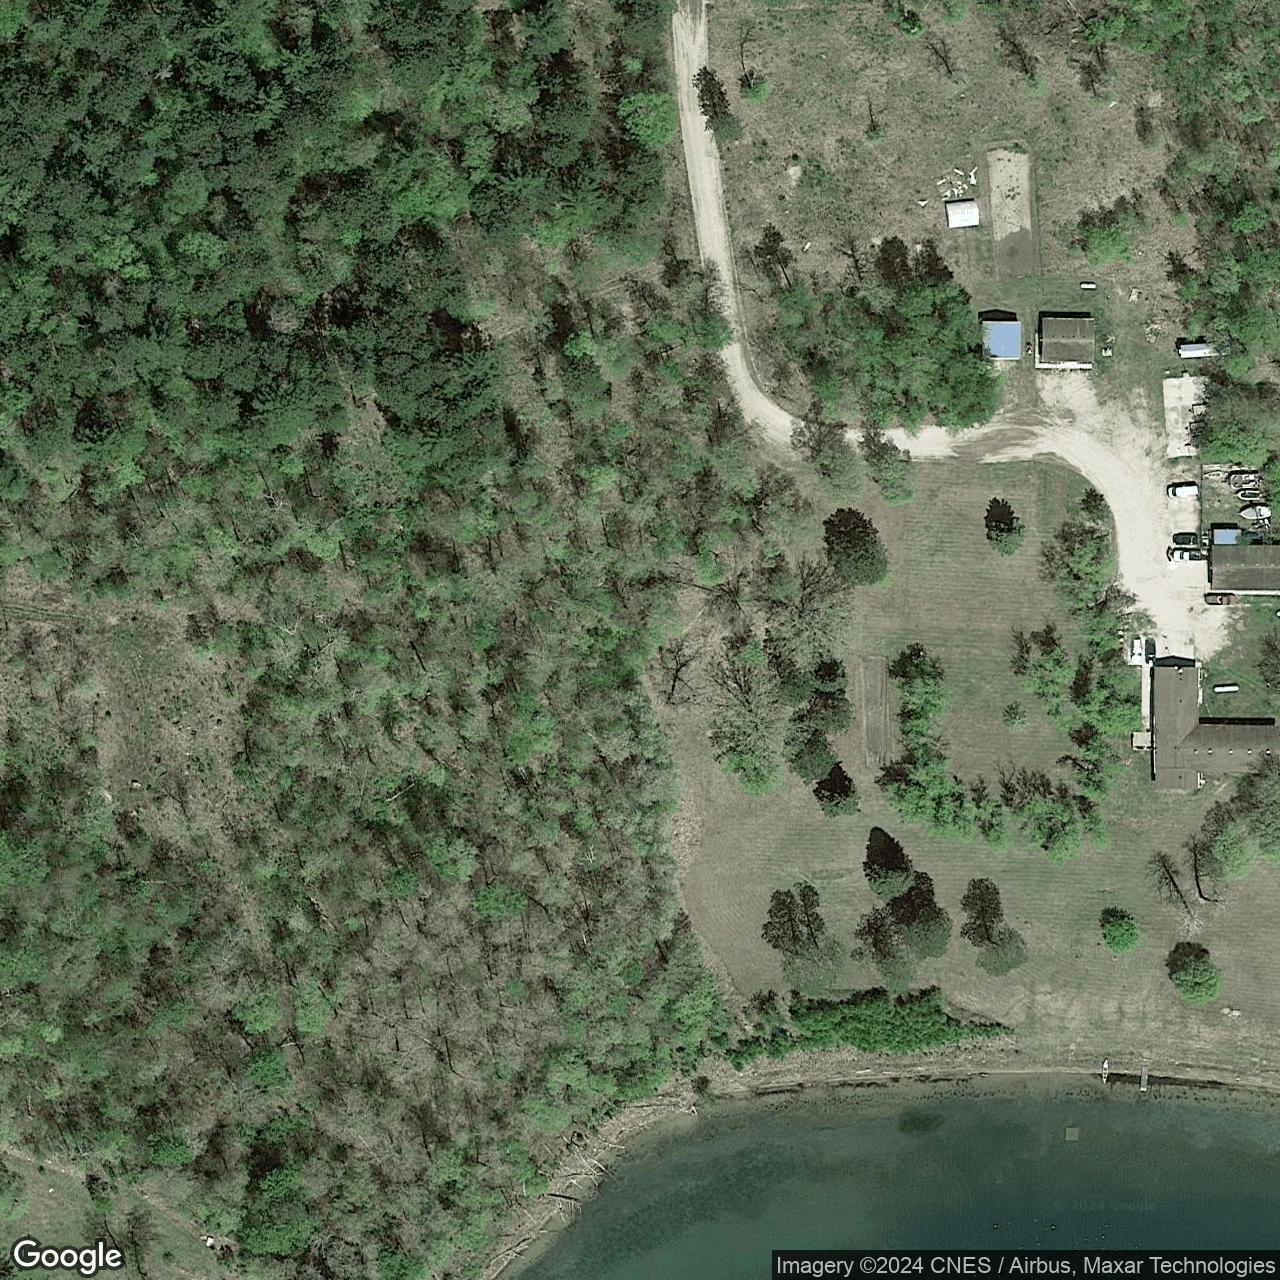Garage: (979, 319, 1023, 361)
House: (1152, 667, 1280, 790), (1210, 544, 1280, 591), (1037, 315, 1097, 365)
Propane: (1210, 681, 1240, 695), (1077, 280, 1099, 292)
Trailer: (1178, 341, 1233, 360)
